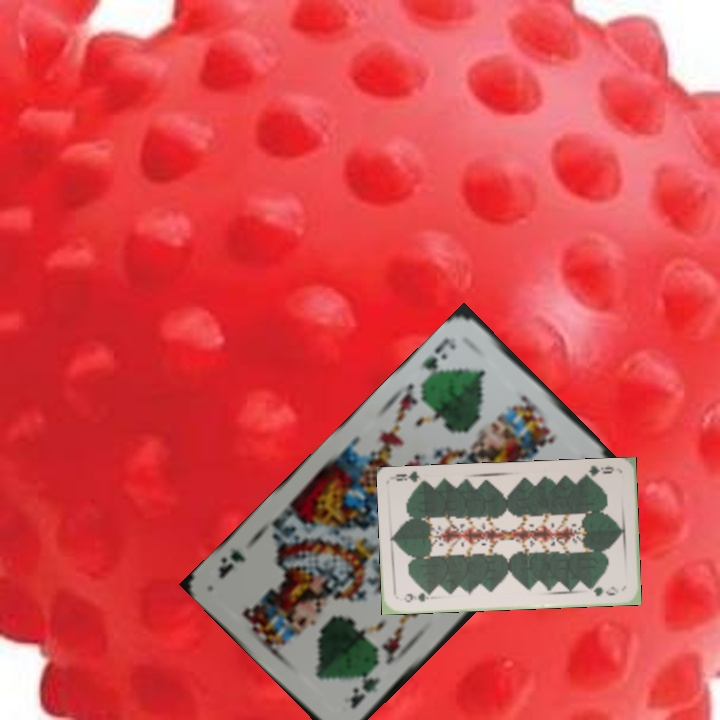G9: (580, 461, 616, 481), (400, 589, 435, 605)
GK: (417, 333, 459, 377), (346, 663, 383, 711)
